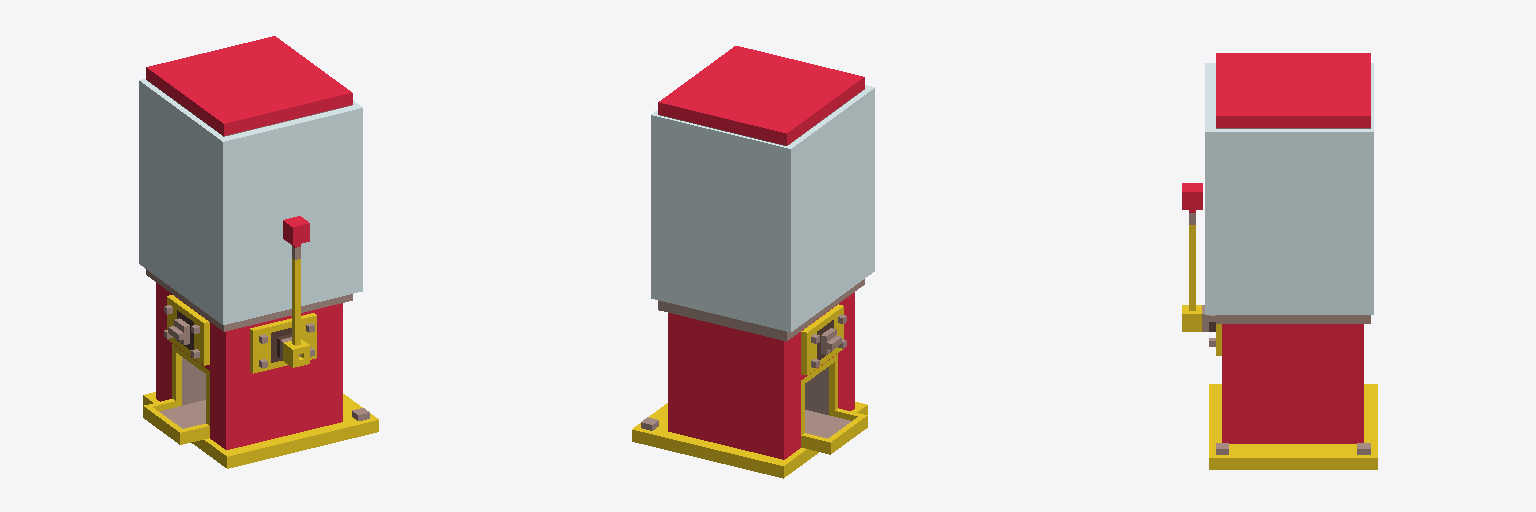
The picture shows the model from 3 angles: view 1: azimuth 30°, elevation 25°; view 2: azimuth 150°, elevation 25°; view 3: azimuth 270°, elevation 25°; orthographic projection.
Visible parts, largest first — view 1: prize_machine_top, prize_machine_bottom, prize_machine_handle; view 2: prize_machine_top, prize_machine_bottom; view 3: prize_machine_bottom, prize_machine_top, prize_machine_handle.
Boxes of the visible parts, x1=… form: prize_machine_top: x1=139, y1=79, x2=362, y2=324; prize_machine_bottom: x1=143, y1=36, x2=378, y2=468; prize_machine_handle: x1=283, y1=216, x2=309, y2=367; prize_machine_top: x1=651, y1=85, x2=874, y2=332; prize_machine_bottom: x1=632, y1=46, x2=867, y2=478; prize_machine_bottom: x1=1202, y1=53, x2=1377, y2=469; prize_machine_top: x1=1205, y1=63, x2=1373, y2=314; prize_machine_handle: x1=1182, y1=183, x2=1202, y2=331.
Bounding box in the file's own units: 4.8 × 8.96 × 4.62.
Materials: 3 (3 with a texture image).